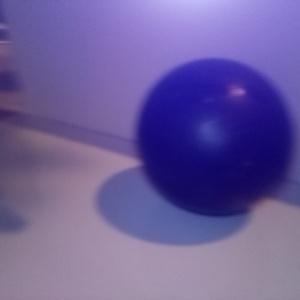dead_ball: (138, 59, 291, 216)
